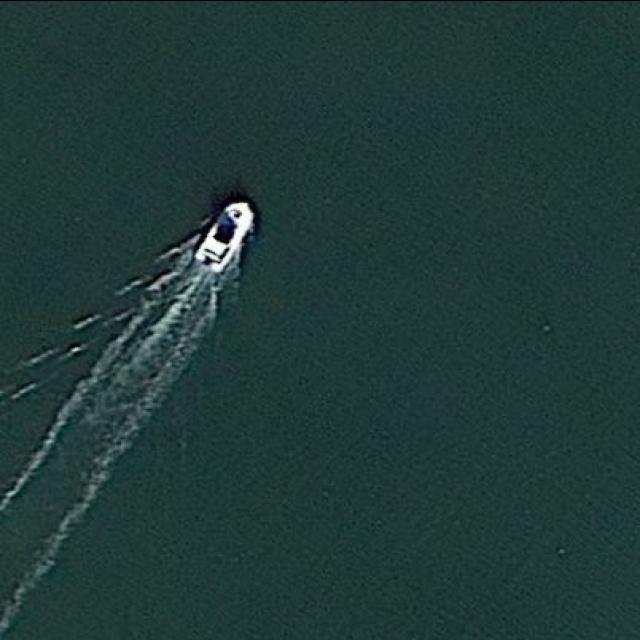ship: (192, 192, 260, 270)
